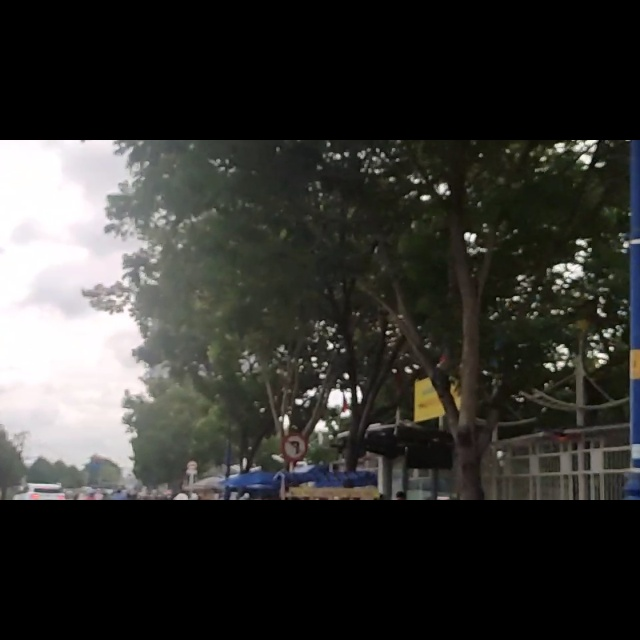bien_hieu_lenh: (284, 520, 307, 564)
